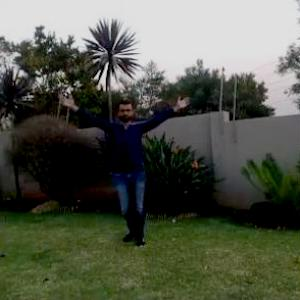takeoff: (41, 93, 193, 249)
